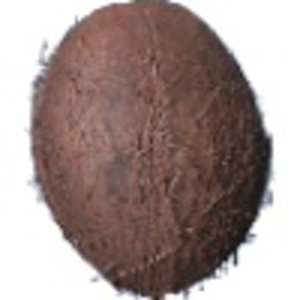coco: (29, 1, 274, 300)
